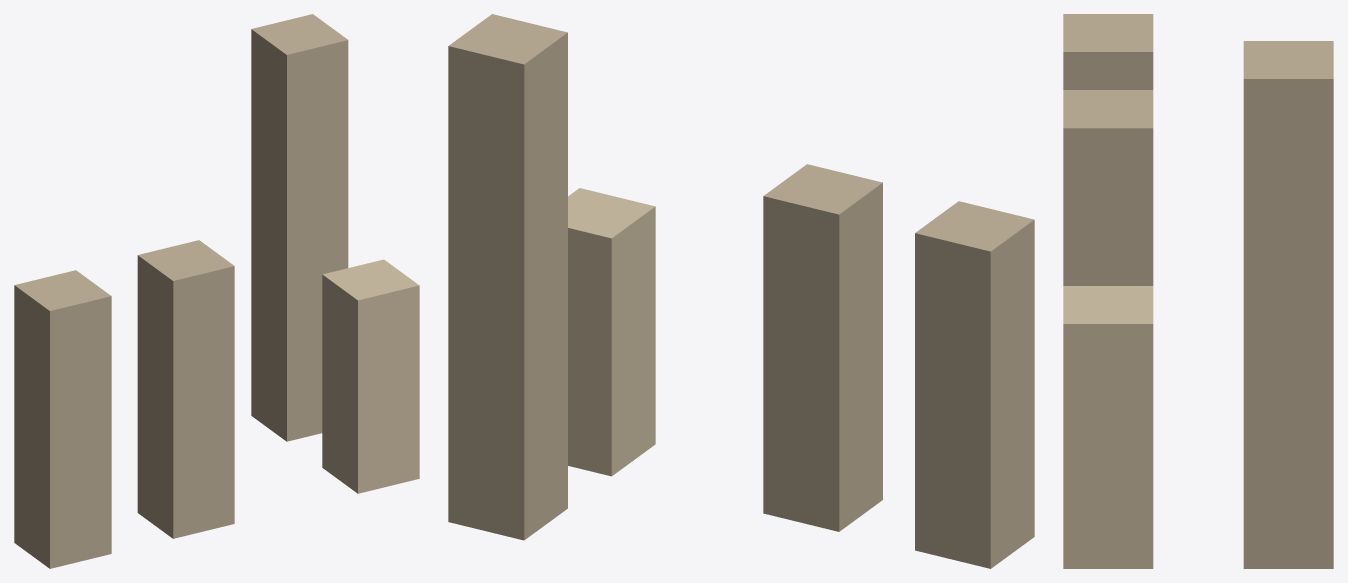
The model's file is cebolla_de_montana_01.glb.
3 renders of one model, left to right at view 1: azimuth 30°, elevation 25°; view 2: azimuth 150°, elevation 25°; view 3: azimuth 270°, elevation 25°, orthographic. The views are drawn at different scales.
Visible parts, largest first — view 1: cebolla_de_montana_01; view 2: cebolla_de_montana_01; view 3: cebolla_de_montana_01.
Boxes of the visible parts, x1=… form: cebolla_de_montana_01: x1=14, y1=14, x2=419, y2=568; cebolla_de_montana_01: x1=448, y1=14, x2=1034, y2=568; cebolla_de_montana_01: x1=1063, y1=14, x2=1333, y2=568.
Size of the model in its own units: 0.6 by 0.6 by 0.3.
